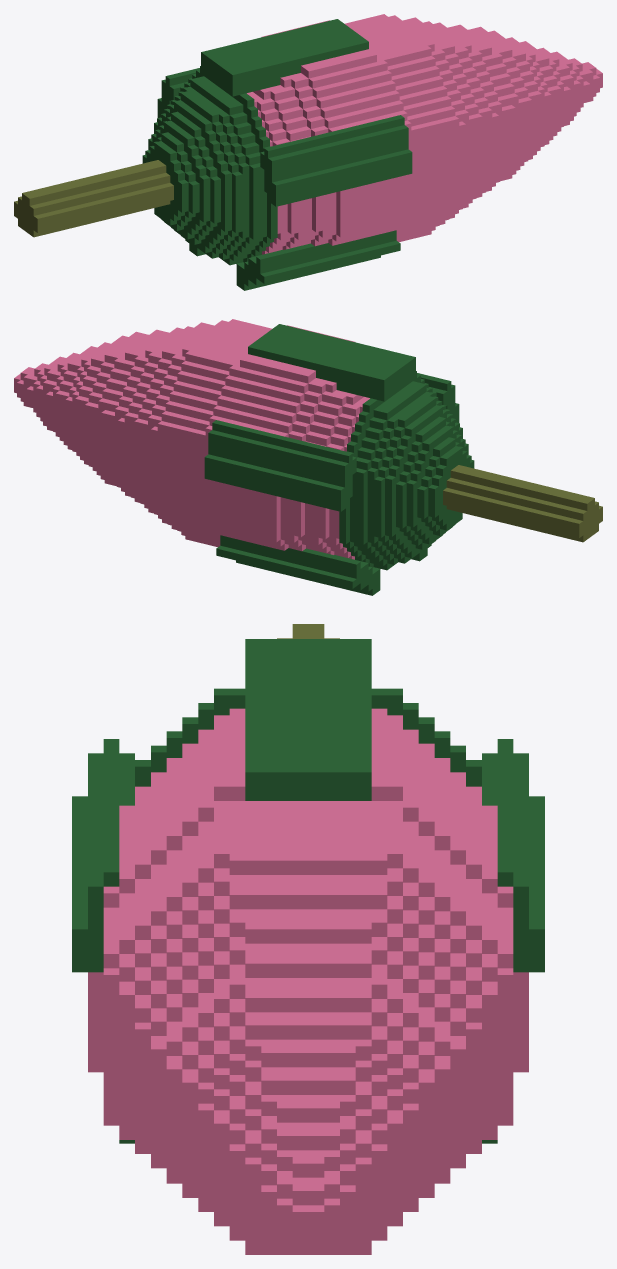
File: biollante_bud.glb
3 views of the same model, one above another, from view 1: azimuth 30°, elevation 25°; view 2: azimuth 150°, elevation 25°; view 3: azimuth 270°, elevation 25° (orthographic). The views are drawn at different scales.
Visible parts, largest first — view 1: biollante_bud:compound; view 2: biollante_bud:compound; view 3: biollante_bud:compound.
Part boxes in pixels (box(x1,y1,x2,y2)): biollante_bud:compound: box(14, 14, 602, 290); biollante_bud:compound: box(14, 319, 602, 595); biollante_bud:compound: box(72, 624, 544, 1254).
Bounding box in the file's own units: 0.168 × 0.058 × 0.06.
